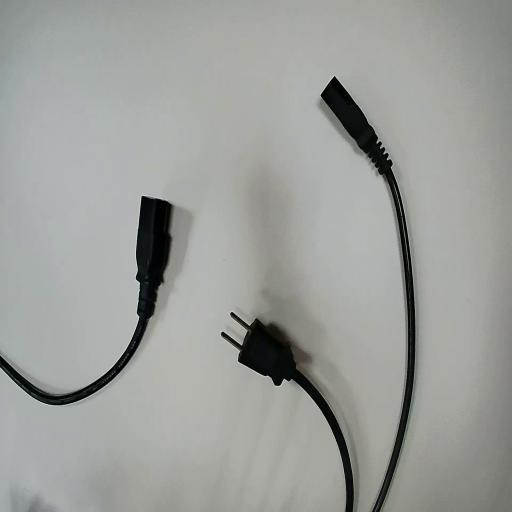wire: (322, 78, 414, 511), (0, 197, 171, 403), (222, 314, 353, 511)
